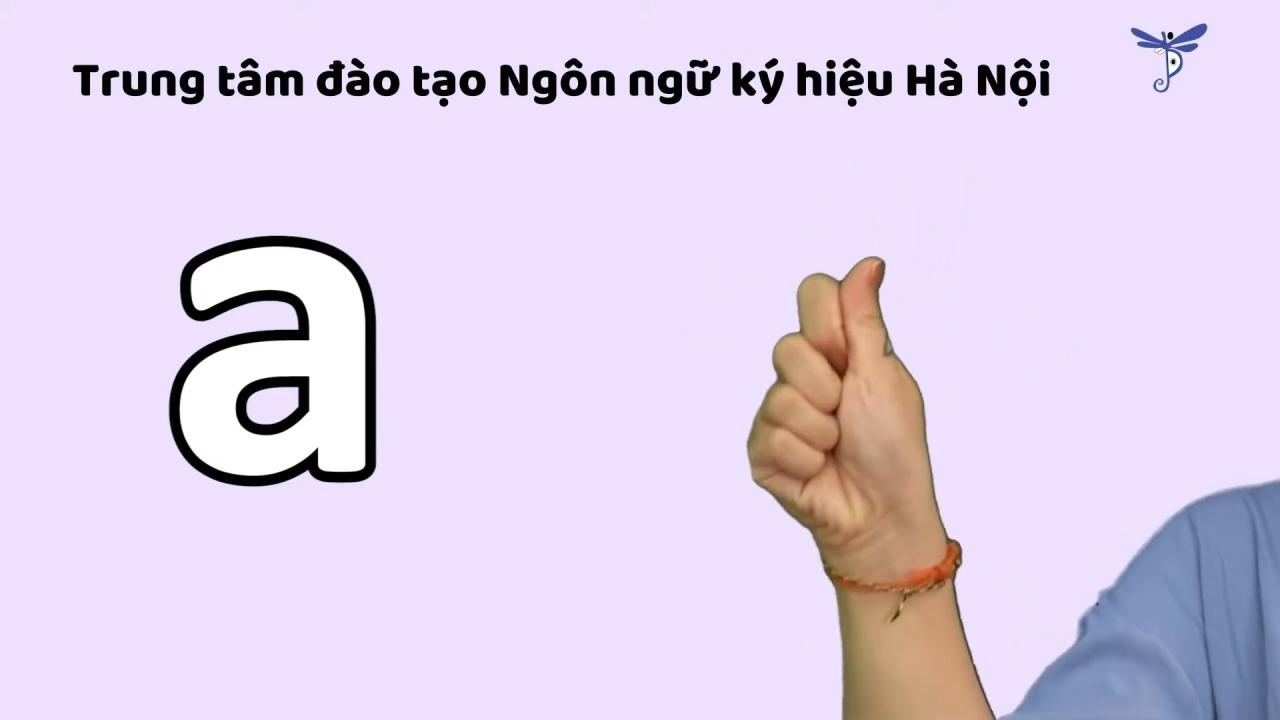A: (732, 238, 976, 612)
